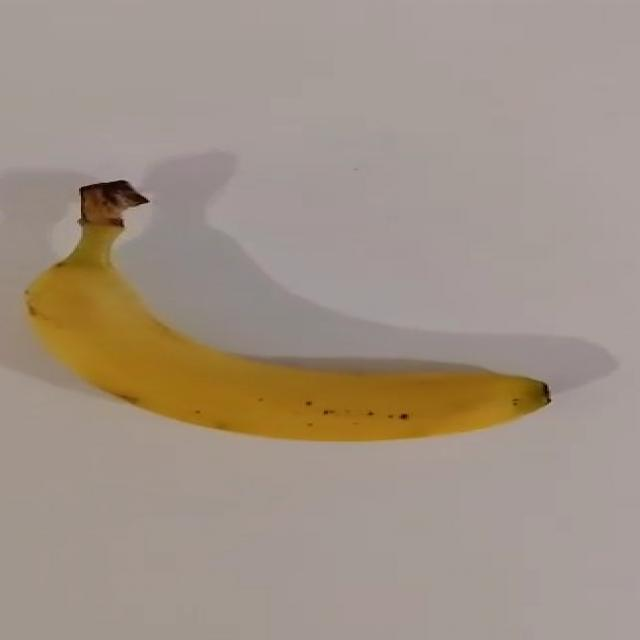Banana: (23, 178, 551, 442)
